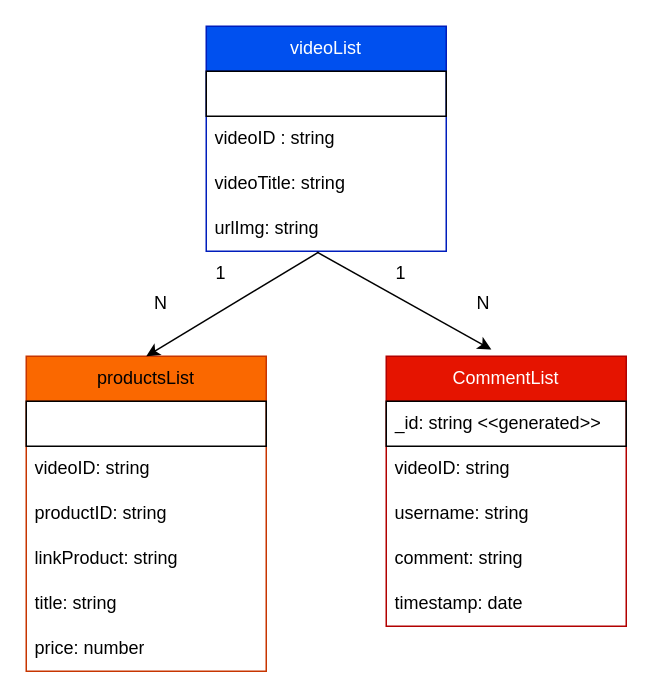
This 653x698 diagram has some shape labels left out. The centre of each missing label's shape, as x and y in pixels:
"_id : string <<generated>>" goes at point (145, 423).
"_id: string <<generated>" goes at point (325, 93).
